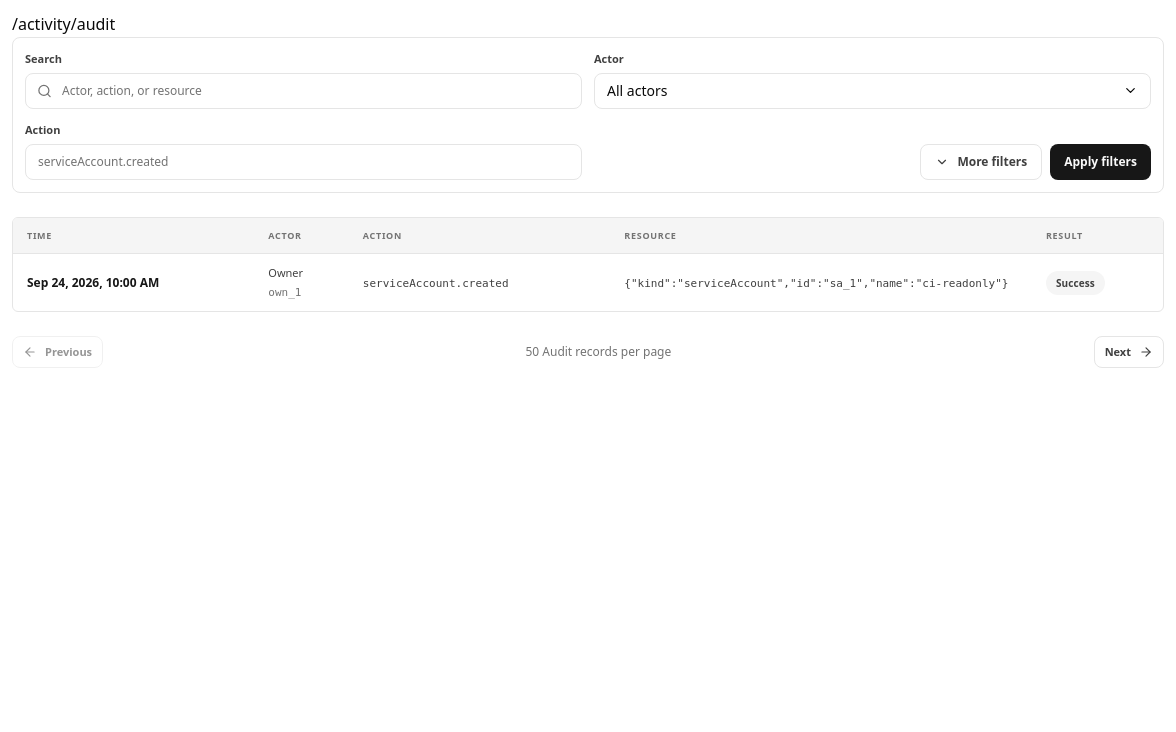
Test: Access and Audit pages › 默认精简审计筛选，折叠高级条件后仍提交并保留输入
Expected: the link "Sep 24, 2026, 10:00 AM" is shown, [27, 274, 159, 291]
Expected: the field labelled "Actor ID" is not shown
Click the button "More filters" at (981, 162), box [920, 144, 1042, 180]
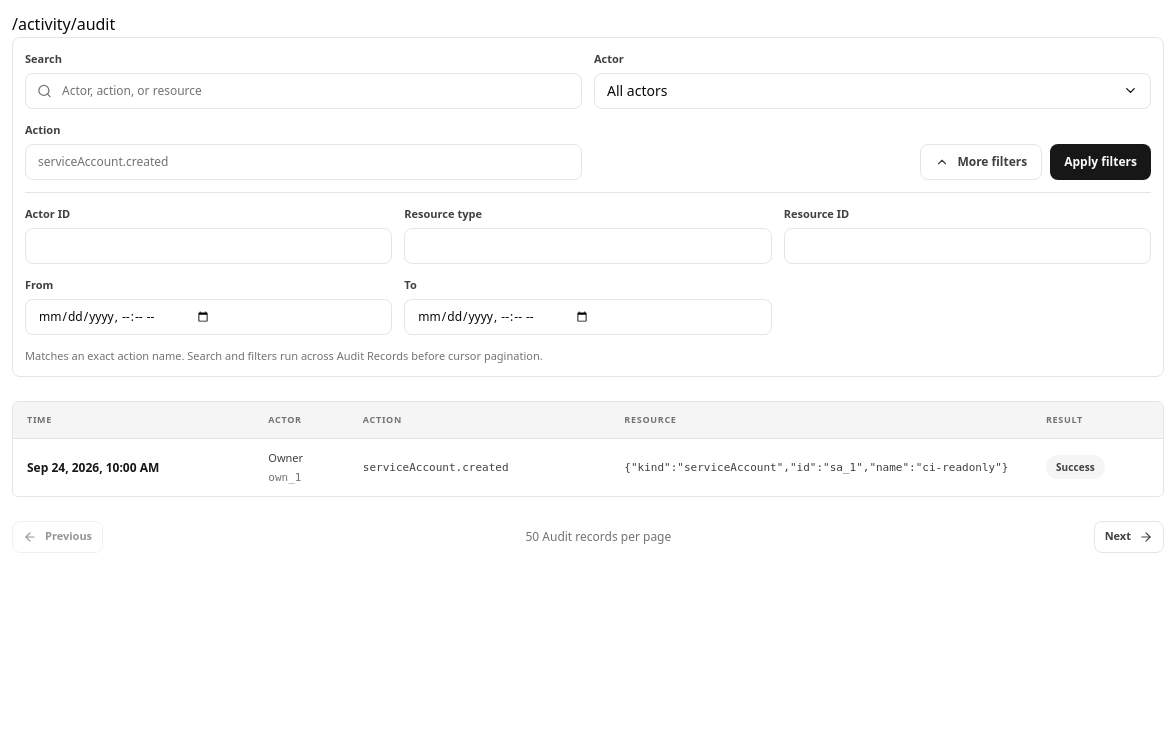
Type "own_2" into the field labelled "Actor ID" at (209, 246), box [25, 228, 392, 264]
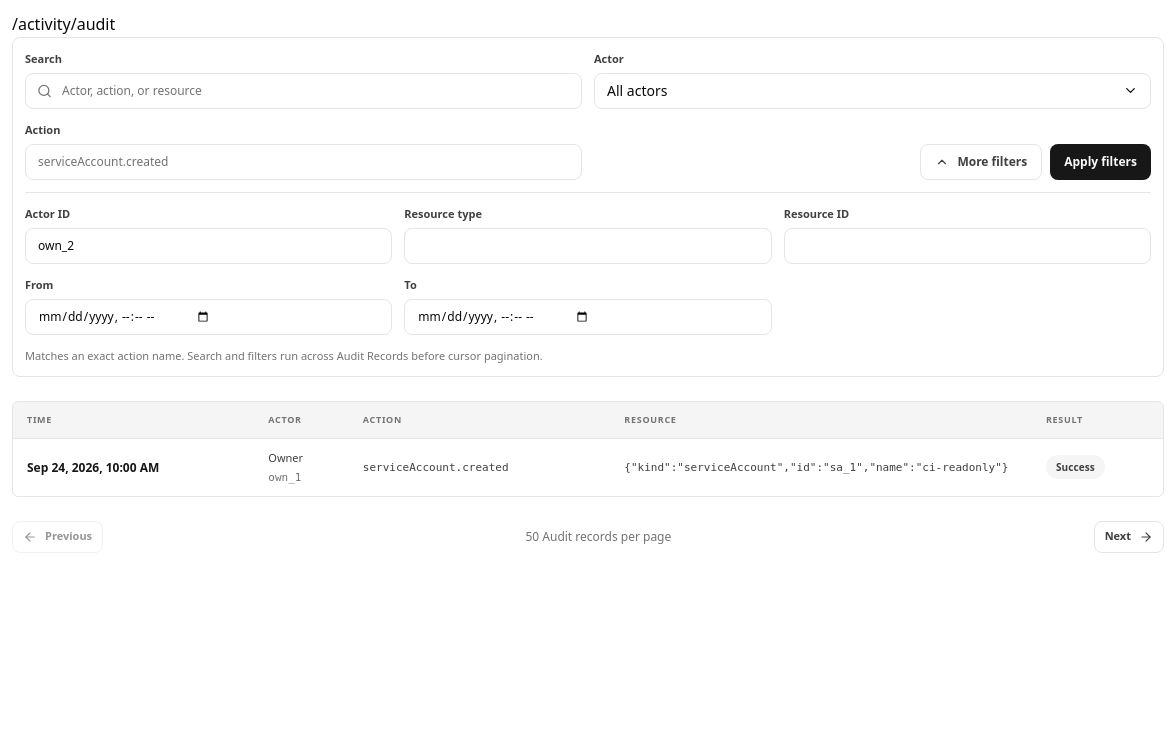
Click the button "More filters" at (981, 162), box [920, 144, 1042, 180]
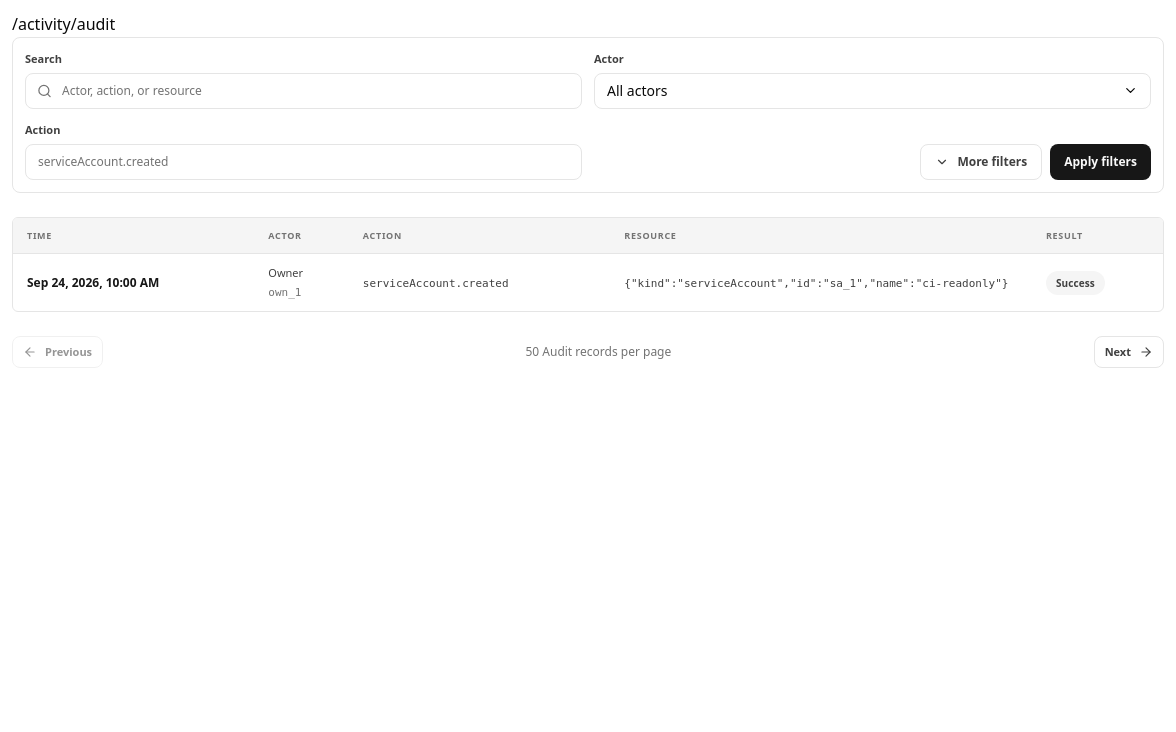
Now the label "Actor ID" is gone
Click the button "Apply filters" at (1101, 162), box [1050, 144, 1151, 180]
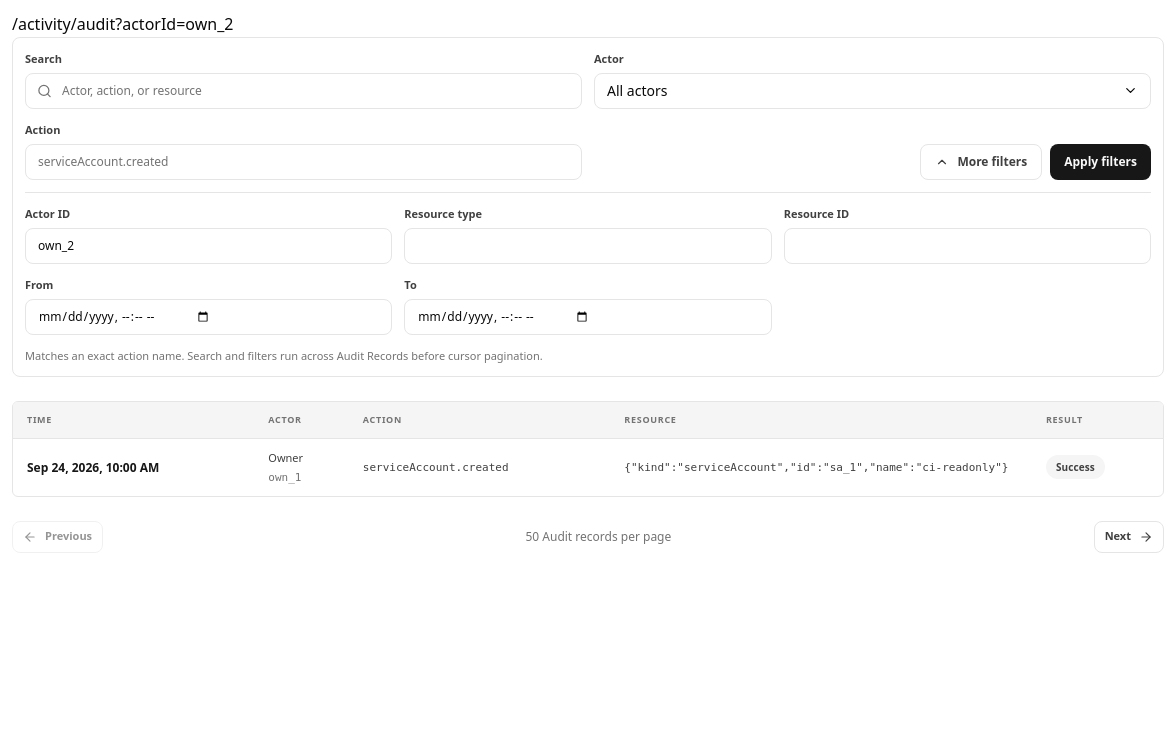
Now the field labelled "Actor ID" holds "own_2", box [25, 228, 392, 264]
